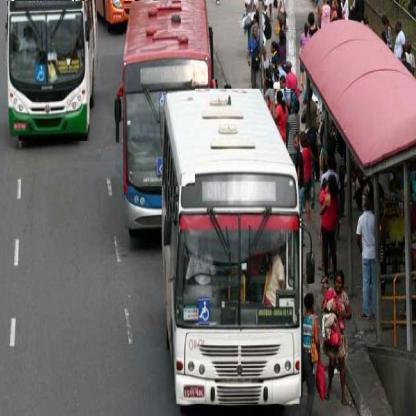bus: (166, 90, 301, 406), (124, 2, 196, 189), (8, 2, 91, 143)
